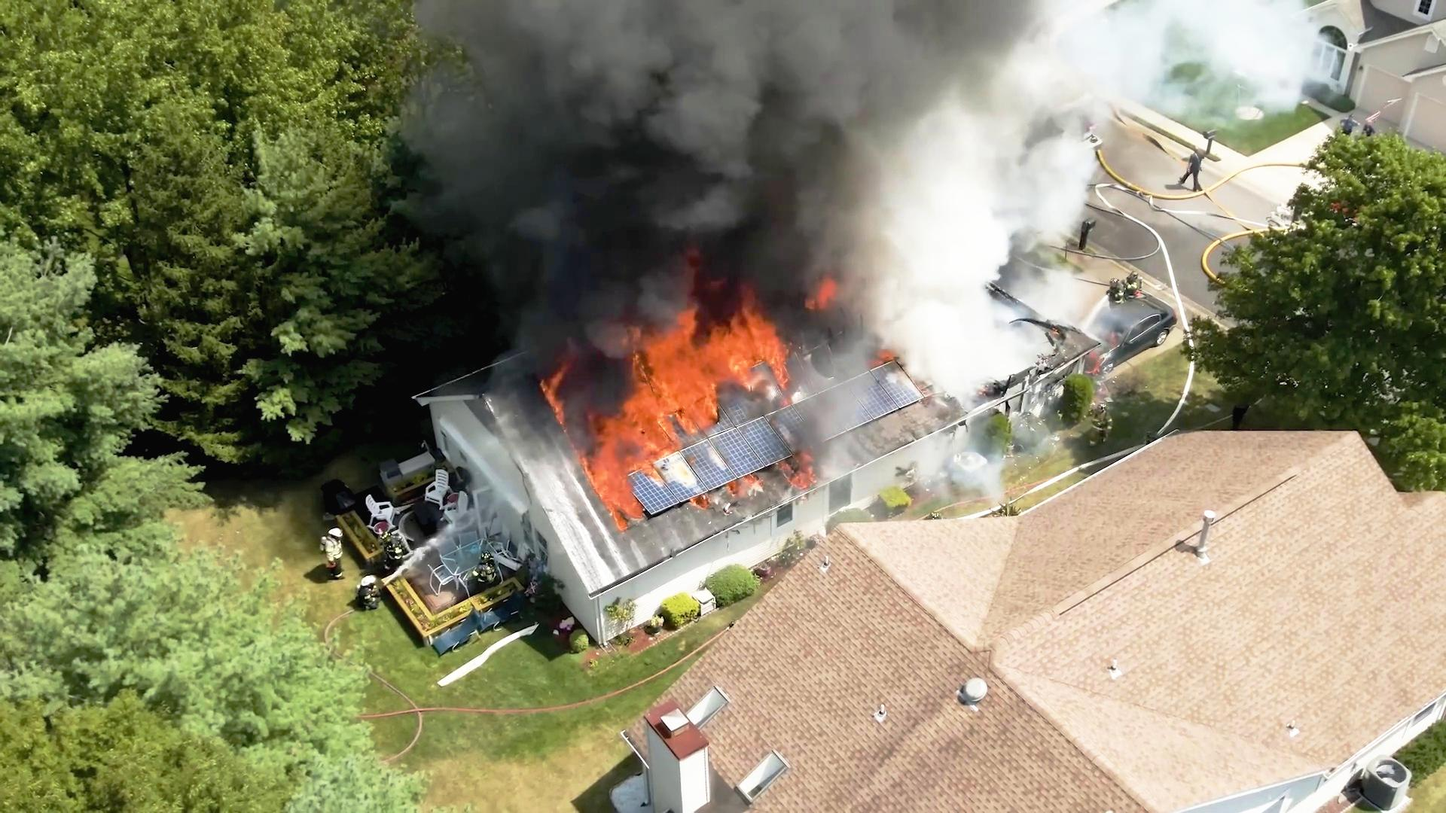fire: (570, 290, 784, 509)
smoke: (463, 14, 816, 241)
